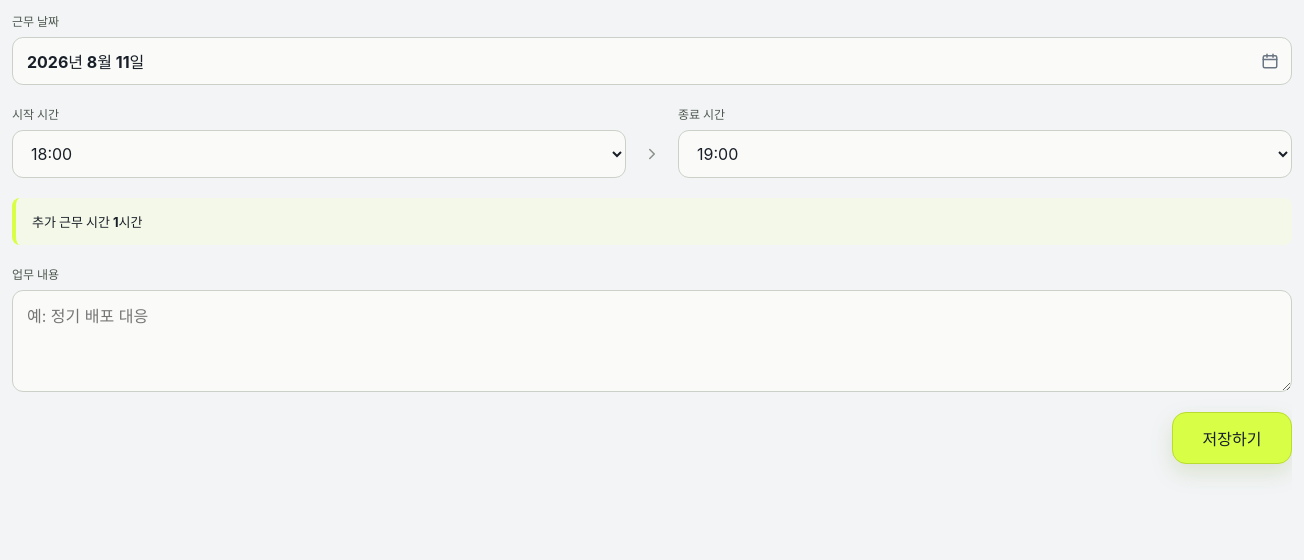
Test: OvertimeForm › keeps entered values and explains a failed save
The width and height of the screenshot is (1304, 560).
Type "배포 대응" into the text box labelled "업무 내용" at (652, 341), box [12, 290, 1292, 392]
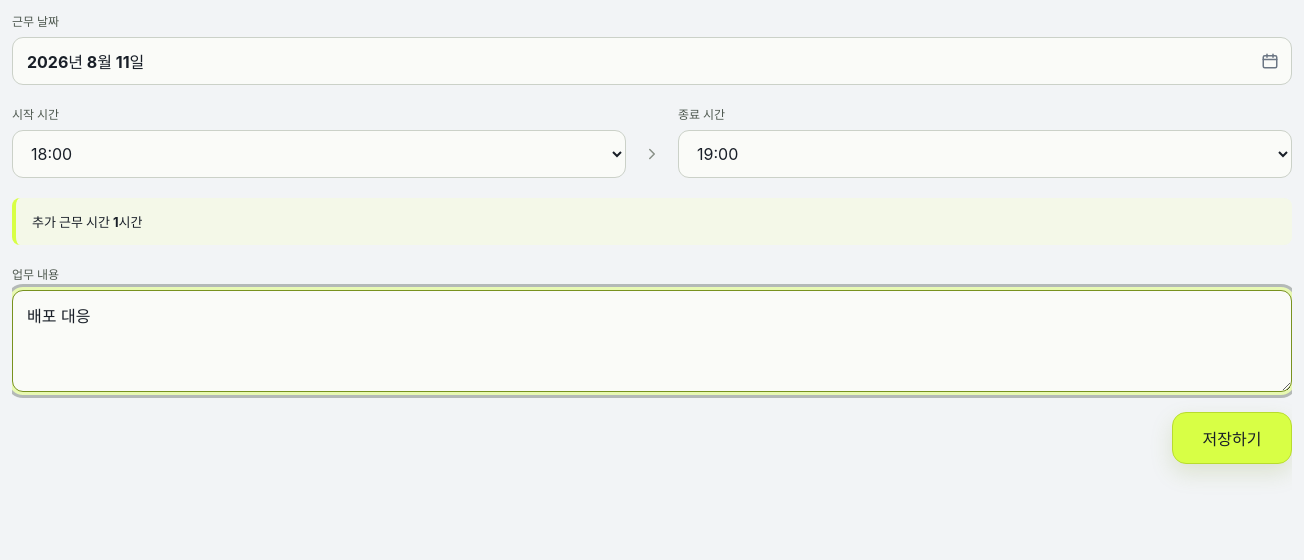
Click the button "저장하기" at (1232, 438), box [1172, 412, 1292, 464]
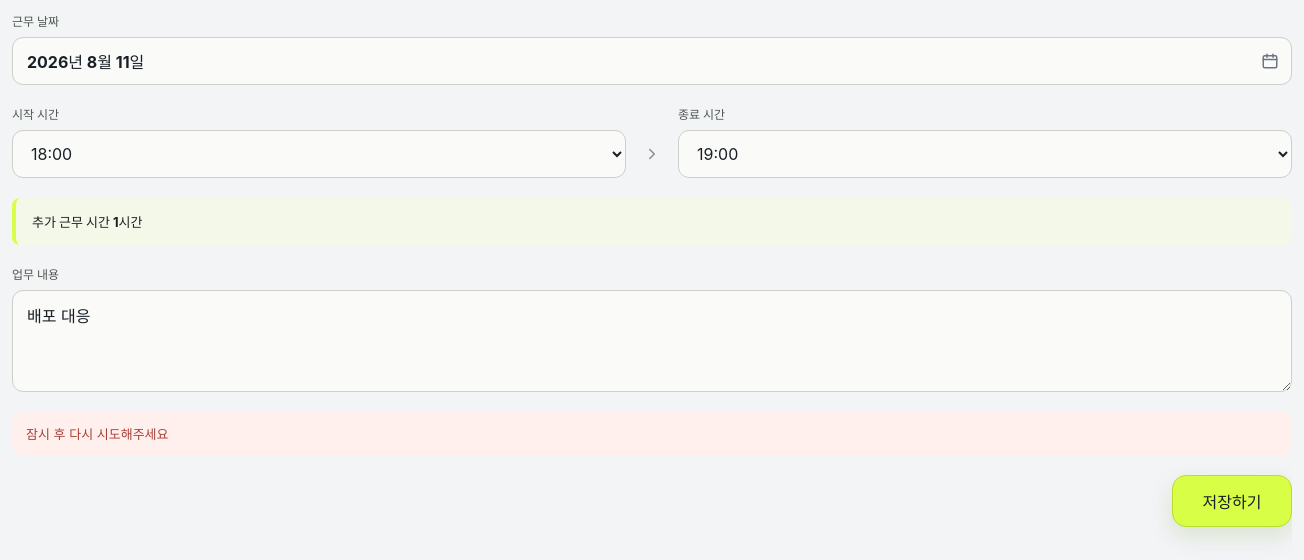
Expected: the message reads "잠시 후 다시 시도해주세요", [26, 426, 168, 442]
